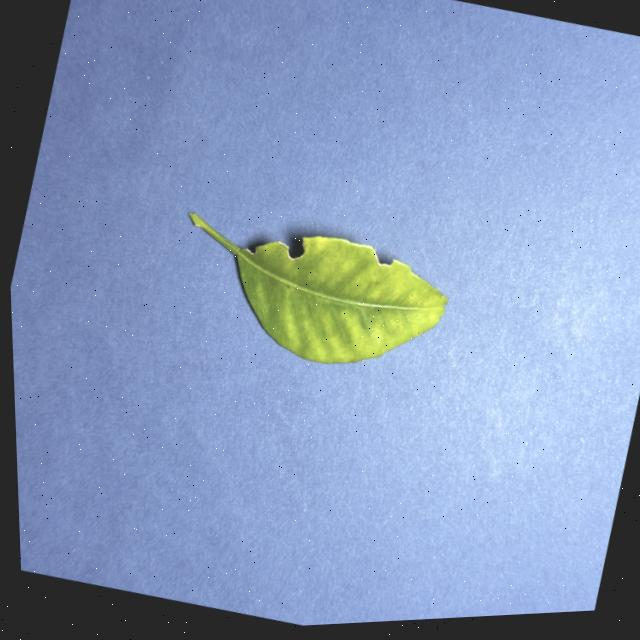greening: (188, 213, 446, 363)
